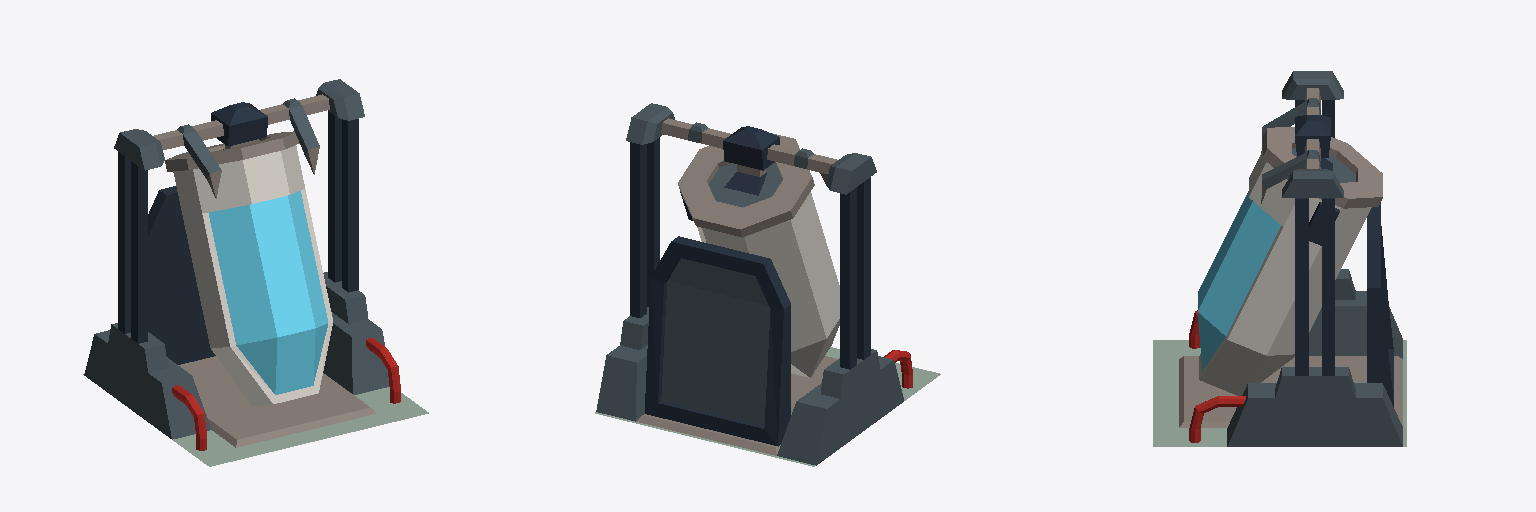
The picture shows the model from 3 angles: view 1: azimuth 30°, elevation 25°; view 2: azimuth 150°, elevation 25°; view 3: azimuth 270°, elevation 25°; orthographic projection.
Parts seen in each view (by area): view 1: Circle; view 2: Circle; view 3: Circle.
Part boxes in pixels (x1,y1,x2,y2): Circle: (83, 79, 428, 466); Circle: (595, 103, 940, 466); Circle: (1153, 71, 1406, 446).
Bounding box in the file's own units: 2 × 2.4 × 2.
1 materials, 1 textured.